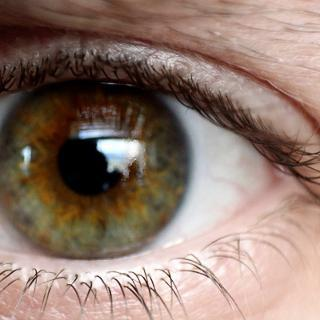pupil: (58, 129, 125, 196)
